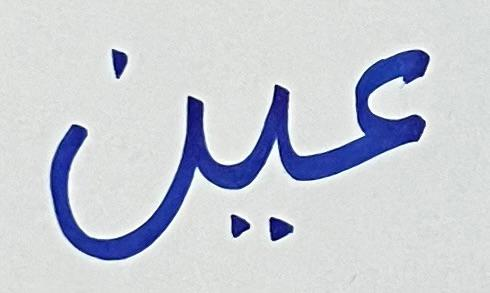ain: (300, 48, 436, 183)
noon: (45, 43, 207, 263)
yeh: (210, 69, 296, 242)
